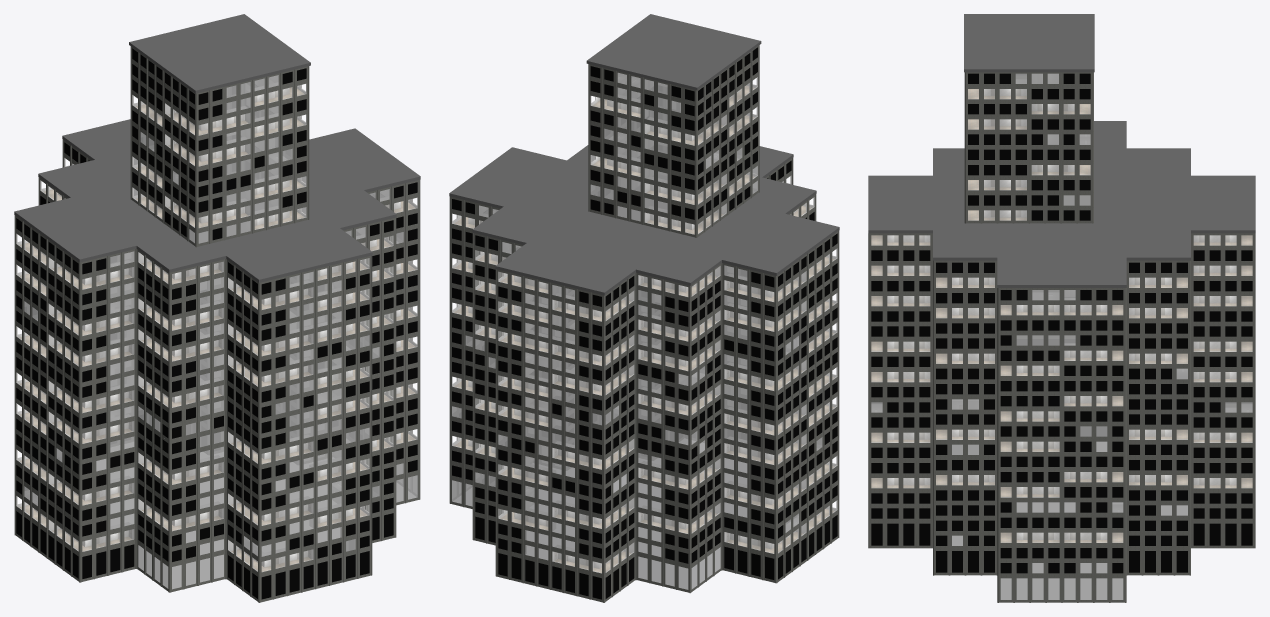
File: building_test.glb
3 views of the same model, side by side, from view 1: azimuth 30°, elevation 25°; view 2: azimuth 150°, elevation 25°; view 3: azimuth 270°, elevation 25° (orthographic). The views are drawn at different scales.
Parts seen in each view (by area): view 1: Material2 (×7); view 2: Material2 (×7); view 3: Material2 (×7).
Boxes of the visible parts, box(x1,y1,x2,y2) form: Material2 (×7): box(14, 14, 420, 602); Material2 (×7): box(449, 14, 839, 602); Material2 (×7): box(868, 14, 1255, 602).
Bounding box in the file's own units: 2914 × 3923 × 2915.
6 materials, 5 textured.
